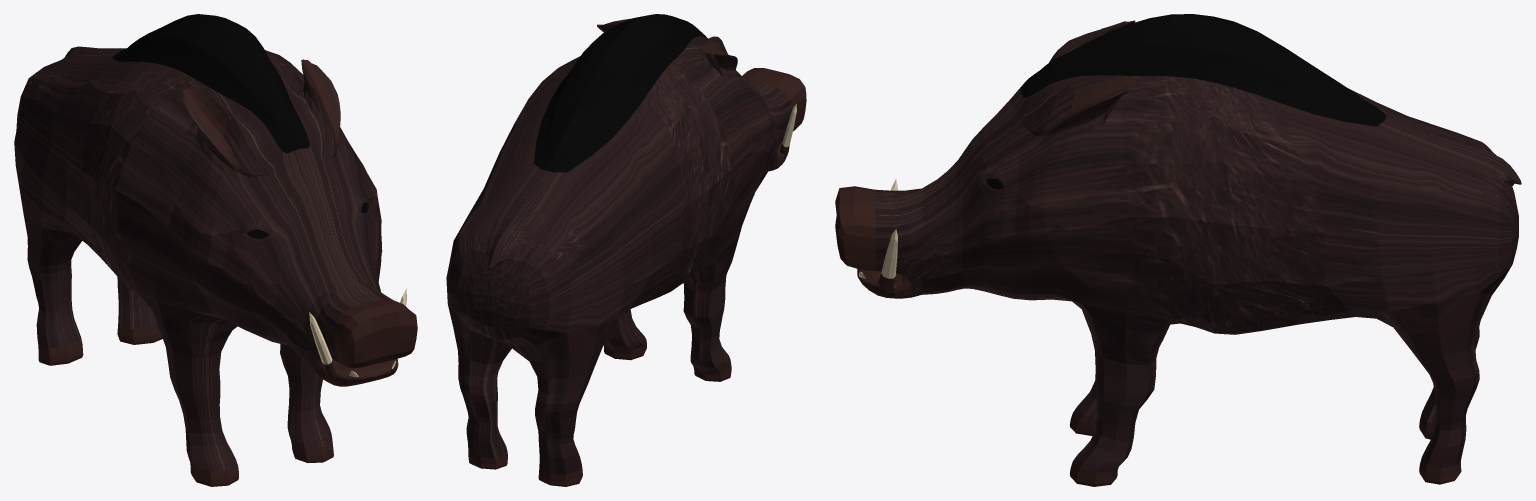
The model's file is wild boar.fbx.
3 views of the same model, side by side, from view 1: azimuth 30°, elevation 25°; view 2: azimuth 150°, elevation 25°; view 3: azimuth 270°, elevation 25° (orthographic). The views are drawn at different scales.
Parts seen in each view (by area): view 1: wild boar; view 2: wild boar; view 3: wild boar.
Boxes of the visible parts, left/top/right/bottom form: wild boar: left=14, top=14, right=417, bottom=486; wild boar: left=446, top=14, right=806, bottom=486; wild boar: left=835, top=14, right=1521, bottom=486.
Size of the model in its own units: 101 by 179 by 254.
